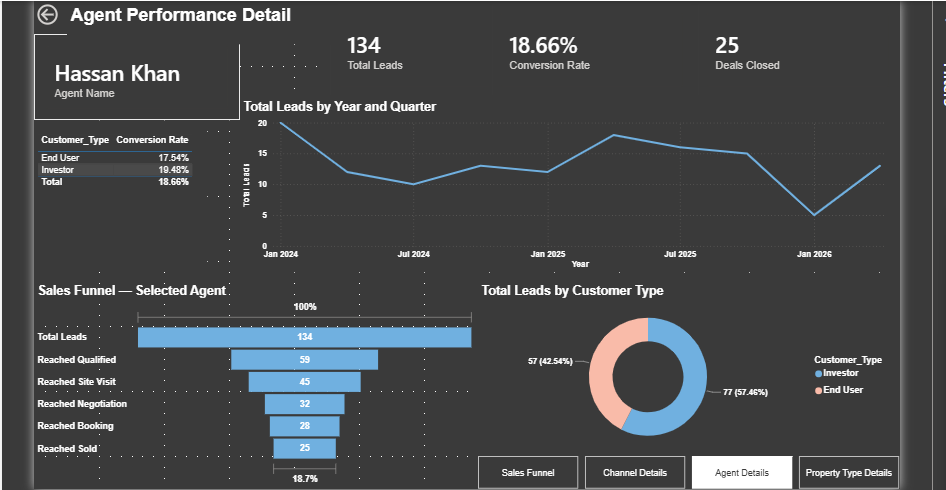

This screenshot's page, from the dashboard's own definition file:
{"tool":"powerbi","page":{"name":"Agent Details","canvas":[1280,720],"ordinal":2},"visuals":[{"type":"actionButton","box":[0,0,100,40],"z":0},{"type":"cardVisual","title":"viewu","fields":{"Data":["Min(silver agents.Agent_Name)"]},"box":[0,48,304,128],"z":1000},{"type":"cardVisual","fields":{"Data":["silver leads.Total Leads"]},"box":[432,0,304,144],"z":2000},{"type":"cardVisual","fields":{"Data":["All_Sales.Deals Closed"]},"box":[976,0,304,144],"z":3000},{"type":"cardVisual","fields":{"Data":["silver leads.Conversion Rate"]},"box":[672,0,304,144],"z":4000},{"type":"funnel","title":"Sales Funnel — Selected Agent","fields":{"Y":["silver leads.Total Leads","silver leads.Reached Qualified","silver leads.Reached Site Visit","silver leads.Reached Negotiation","silver leads.Reached Booking","silver leads.Reached Sold"]},"box":[0,416,656,304],"z":5000},{"type":"donutChart","title":"Total Leads by Customer Type","fields":{"Category":["silver customers.Customer_Type"],"Y":["silver leads.Total Leads"]},"box":[656,416,624,256],"z":6000},{"type":"tableEx","fields":{"Values":["silver customers.Customer_Type","silver leads.Conversion Rate"]},"box":[0,192,256,208],"z":7000},{"type":"lineChart","fields":{"Y":["silver leads.Total Leads"],"Category":["silver leads.Lead_Date.Variation.Date Hierarchy.Year","silver leads.Lead_Date.Variation.Date Hierarchy.Quarter","silver leads.Lead_Date.Variation.Date Hierarchy.Month","silver leads.Lead_Date.Variation.Date Hierarchy.Day"]},"box":[304,144,976,256],"z":8000},{"type":"pageNavigator","box":[656,672,624,48],"z":9000},{"type":"textbox","box":[48,0,400,64],"z":10000}]}

Visuals, with their boxes on the page's 1280x720 design canvas (x1, y1, x2, y2). These are canvas units, not pixel positions in the 946x490 screenshot, which may show the page scaled, cropped or inside an application window:
actionButton: [0,0,100,40]
"viewu" cardVisual: [0,48,304,176]
cardVisual - silver leads.Total Leads: [432,0,736,144]
cardVisual - All_Sales.Deals Closed: [976,0,1280,144]
cardVisual - silver leads.Conversion Rate: [672,0,976,144]
"Sales Funnel — Selected Agent" funnel: [0,416,656,720]
"Total Leads by Customer Type" donutChart: [656,416,1280,672]
tableEx - silver customers.Customer_Type x silver leads.Conversion Rate: [0,192,256,400]
lineChart - silver leads.Total Leads x silver leads.Lead_Date.Variation.Date Hierarchy.Year: [304,144,1280,400]
pageNavigator: [656,672,1280,720]
textbox: [48,0,448,64]
